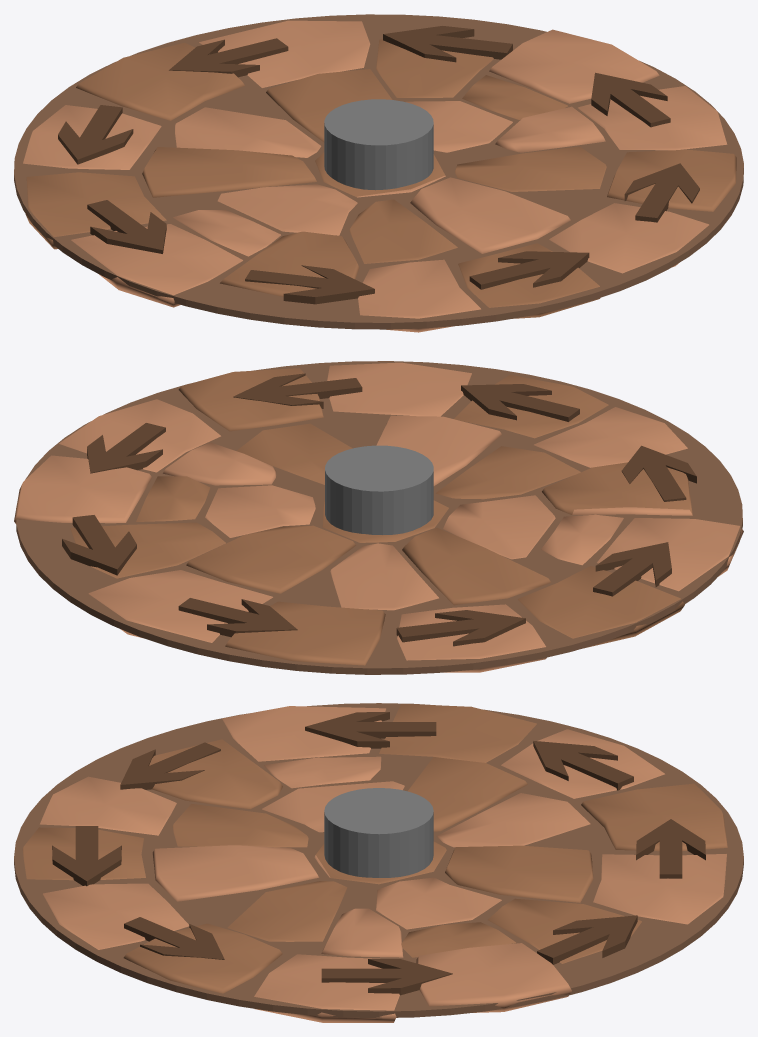
The model's file is Plaque tournante desert.fbx.
3 views of the same model, one above another, from view 1: azimuth 30°, elevation 25°; view 2: azimuth 150°, elevation 25°; view 3: azimuth 270°, elevation 25° (orthographic).
Parts seen in each view (by area): view 1: Cylinder, Cylinder.001; view 2: Cylinder, Cylinder.001; view 3: Cylinder, Cylinder.001.
Boxes of the visible parts, x1,y1,x2,y2 form: Cylinder: [14, 14, 743, 332]; Cylinder.001: [324, 99, 433, 190]; Cylinder: [14, 361, 743, 674]; Cylinder.001: [325, 445, 433, 534]; Cylinder: [14, 703, 743, 1022]; Cylinder.001: [324, 788, 433, 877].
Size of the model in its own units: 2006 by 300 by 2000.
